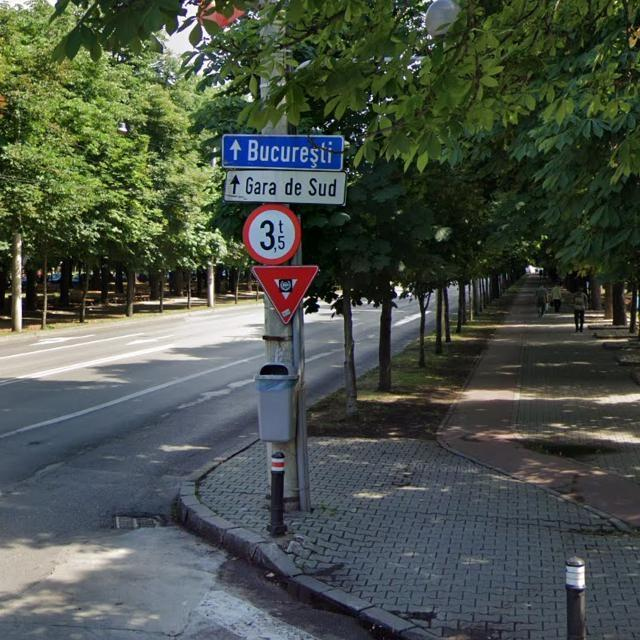prio_give_way: (250, 266, 321, 326)
